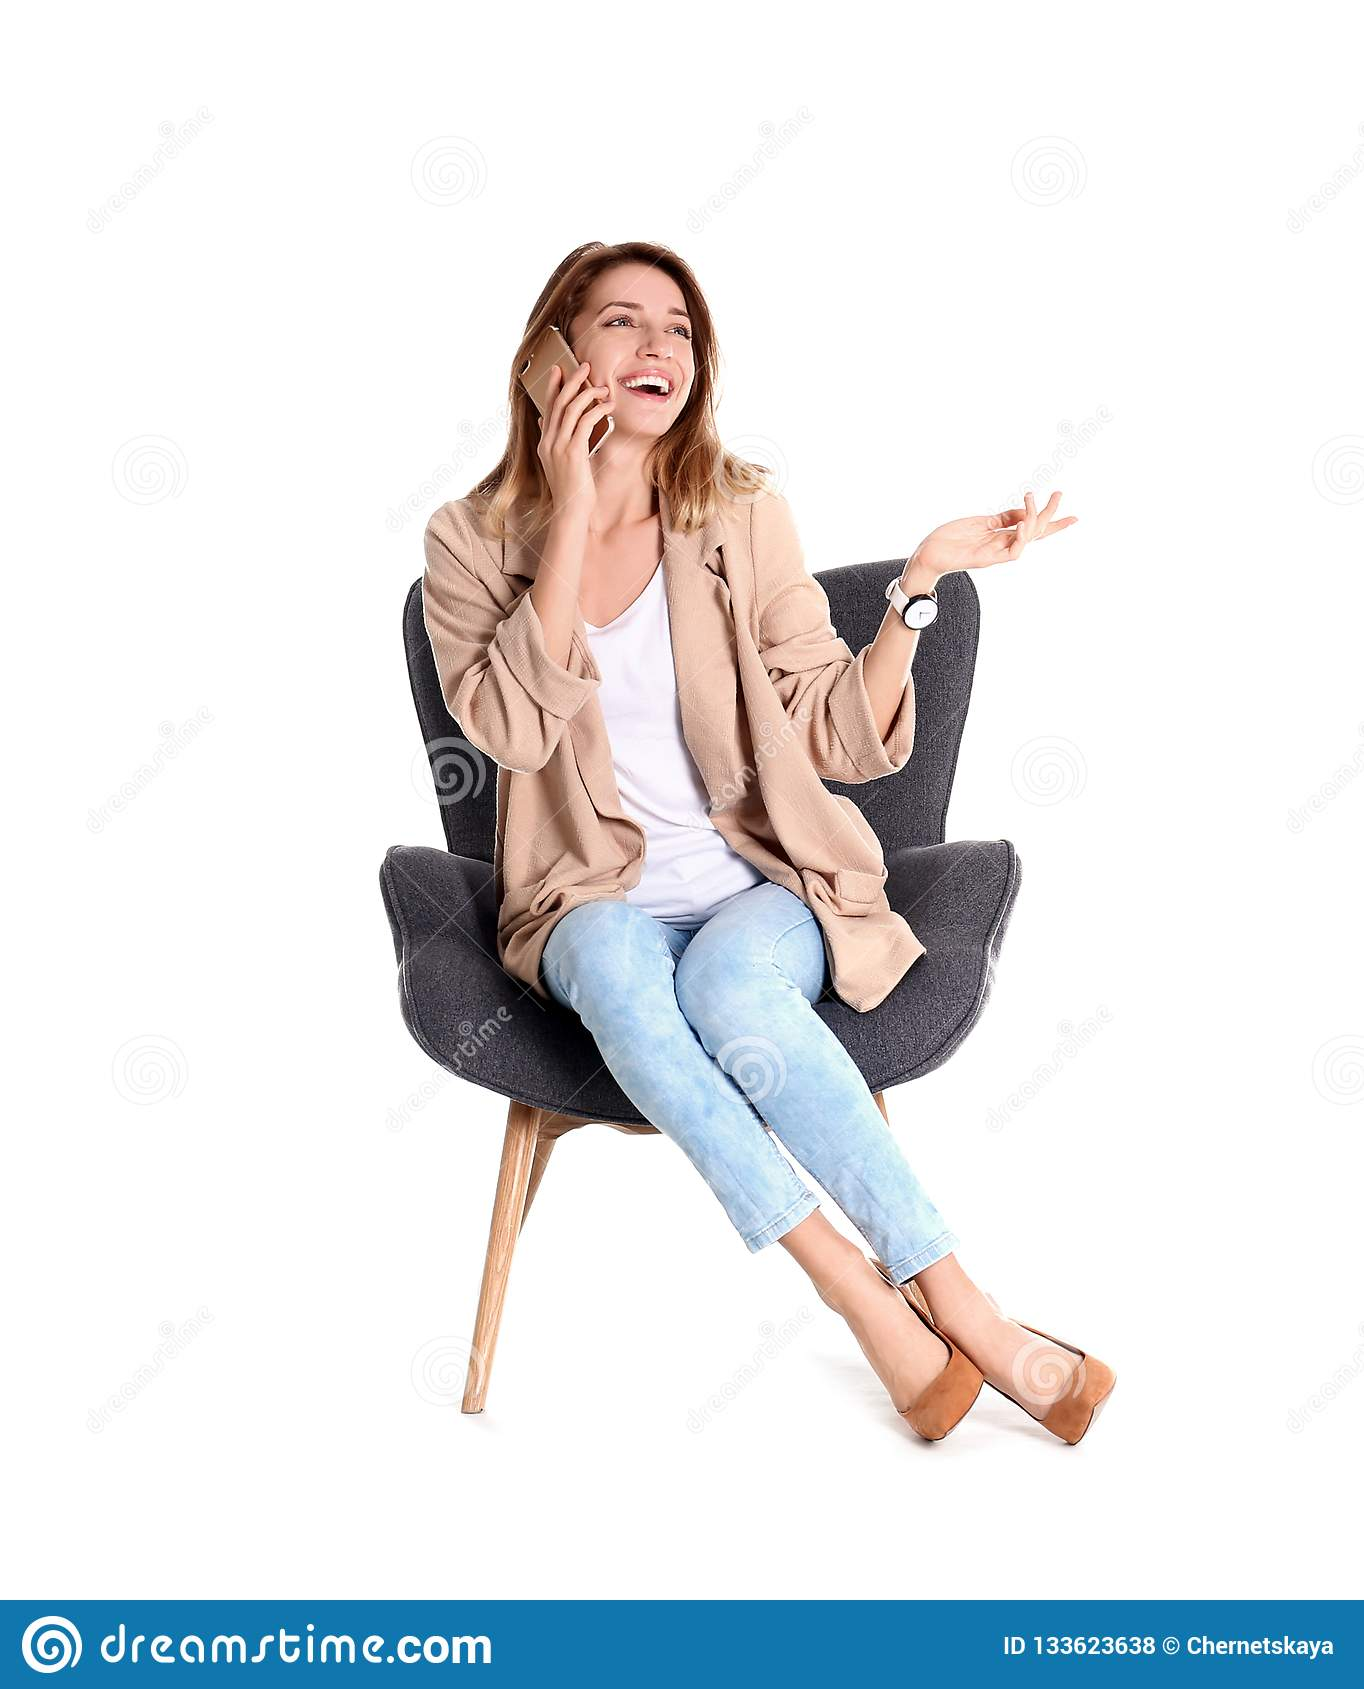phone: (515, 321, 621, 463)
talk: (516, 294, 696, 530)
